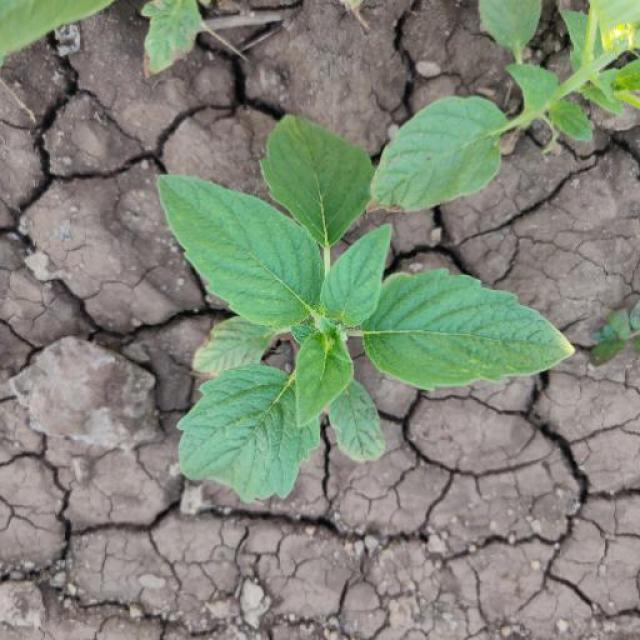crop: (148, 104, 584, 518)
